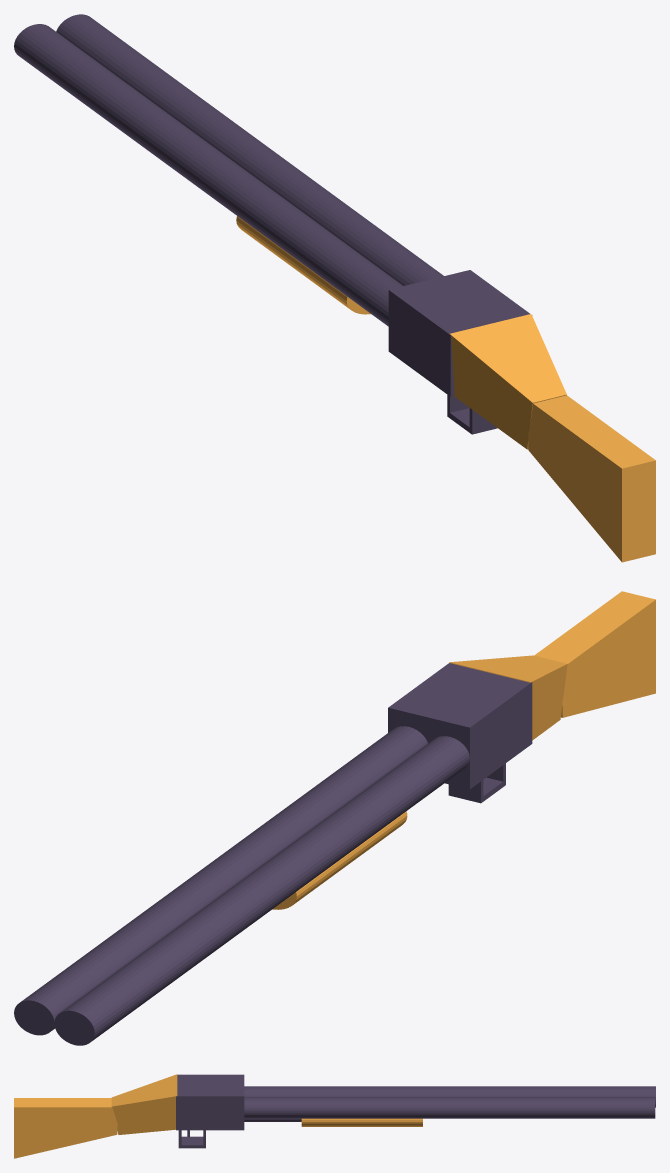
File: DoubleShotgun.fbx
The picture shows the model from 3 angles, top to bottom: view 1: azimuth 30°, elevation 25°; view 2: azimuth 150°, elevation 25°; view 3: azimuth 270°, elevation 25°; orthographic projection. The views are drawn at different scales.
Visible parts, largest first — view 1: Cube.011; view 2: Cube.011; view 3: Cube.011.
Boxes of the visible parts, bbox=[...] form: Cube.011: bbox=[14, 14, 655, 562]; Cube.011: bbox=[14, 591, 655, 1045]; Cube.011: bbox=[14, 1074, 655, 1158].
Bounding box in the file's own units: 43.5 × 64 × 539.
